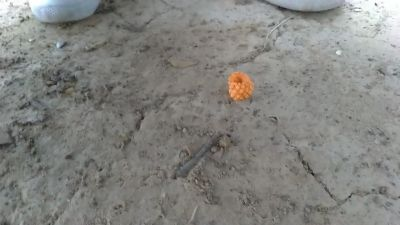eggs: (228, 69, 250, 102)
